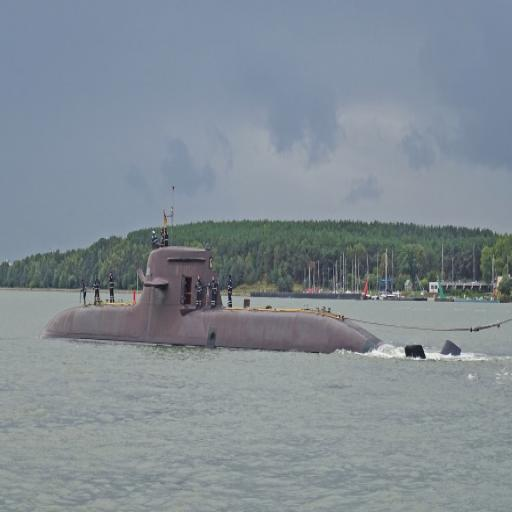submarine: (45, 249, 463, 357)
